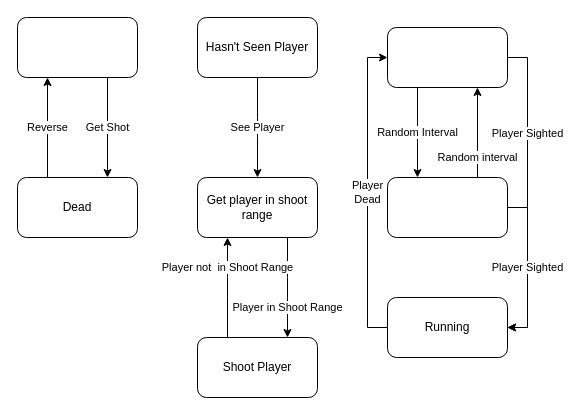
Some shapes in this 581 by 415 pixel diagram are drawn without their labels. Here are the shapes that lost their labels. From the top down, the centre of each, then its label:
the point at 77,47: Alive
the point at 447,57: Standing
the point at 447,207: Walking
